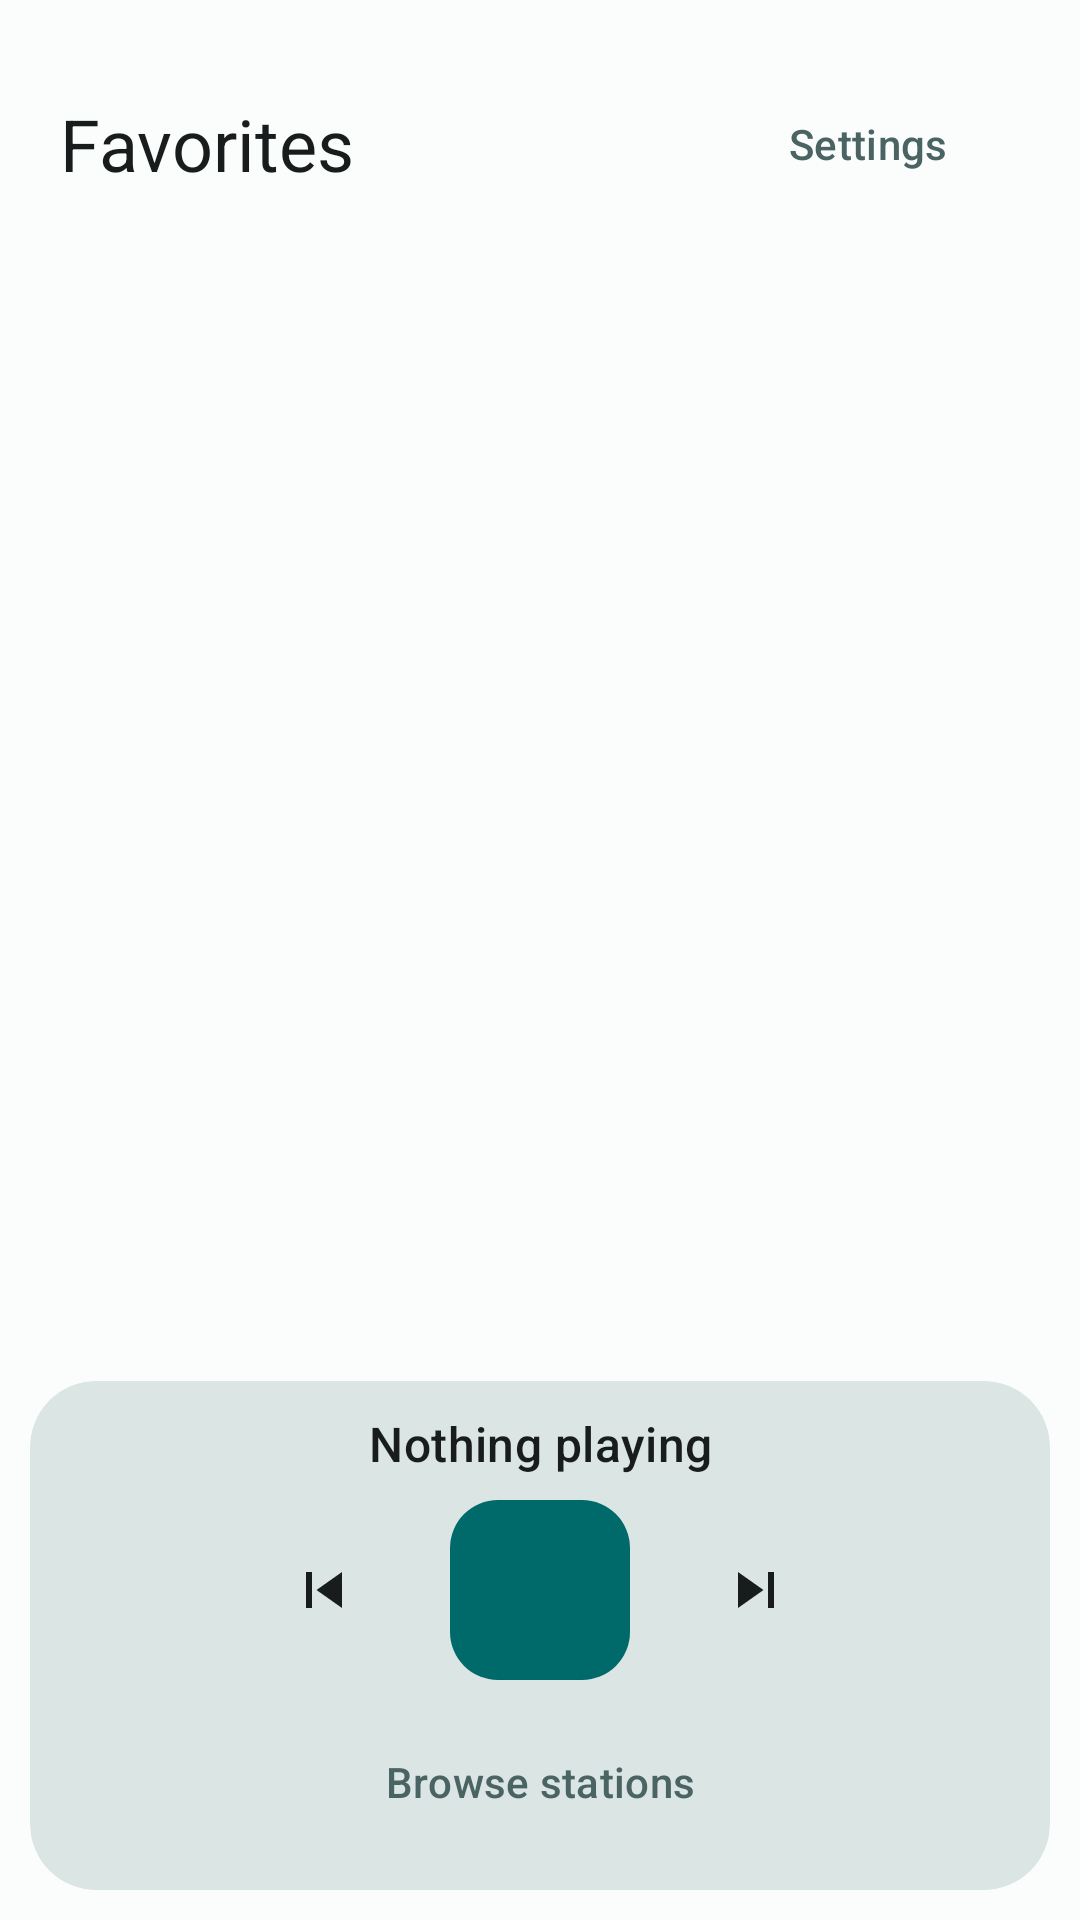

Named icons in this screenshot (1080w x 1920h) and their centers, (x,y):
Next station: (756,1590)
Previous station: (324,1590)
